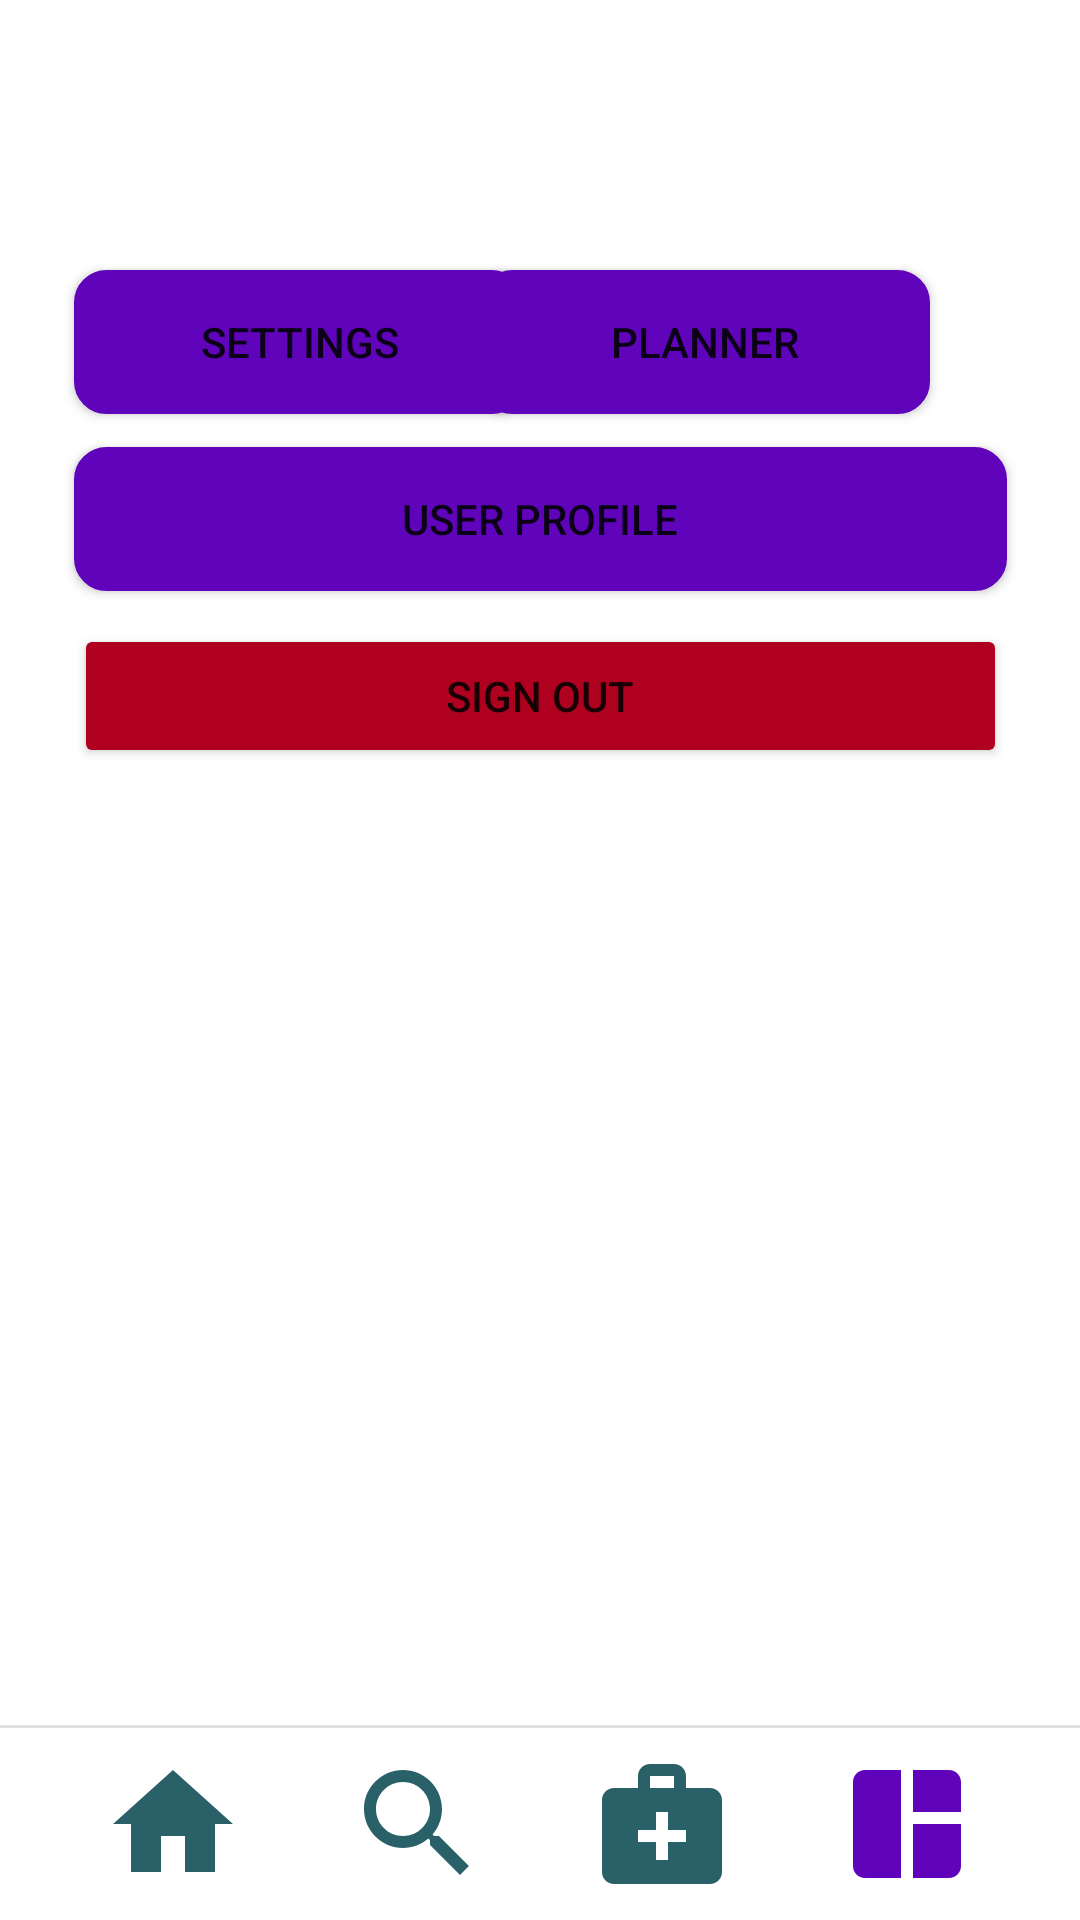

Where to tap for icons on this 1080×1920 app screen, as point (x, y):
dashboard: point (907, 1824)
health: point (662, 1824)
home: point (173, 1821)
search: point (416, 1822)
